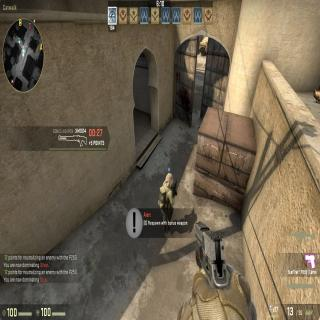CT-Body: (158, 170, 175, 232)
CT-Head: (164, 171, 174, 189)
